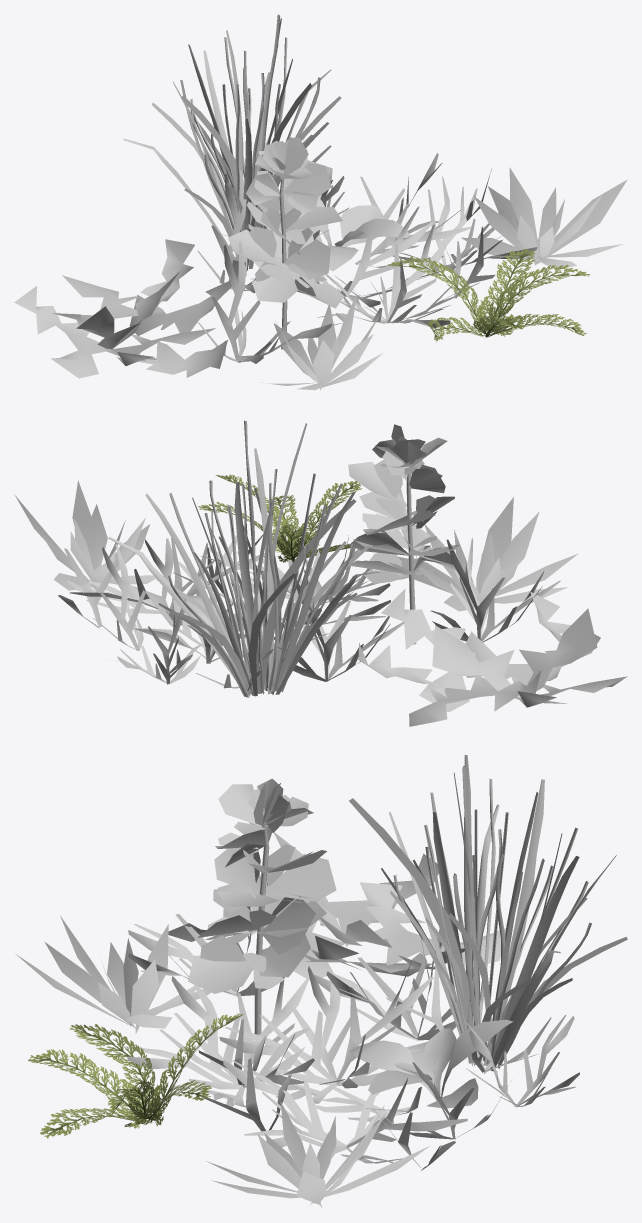
File: SM_Plant_Grass_Field_Assemble_02.gltf
3 views of the same model, one above another, from view 1: azimuth 30°, elevation 25°; view 2: azimuth 150°, elevation 25°; view 3: azimuth 270°, elevation 25° (orthographic). The views are drawn at different scales.
Visible parts, largest first — view 1: SM_Plant_Grass_Field_Assemble_02; view 2: SM_Plant_Grass_Field_Assemble_02; view 3: SM_Plant_Grass_Field_Assemble_02.
Part boxes in pixels (left/top/right/bottom): SM_Plant_Grass_Field_Assemble_02: left=14, top=14, right=627, bottom=390; SM_Plant_Grass_Field_Assemble_02: left=14, top=420, right=627, bottom=726; SM_Plant_Grass_Field_Assemble_02: left=16, top=755, right=627, bottom=1207.
Size of the model in its own units: 1.05 by 0.4451 by 0.7727.
